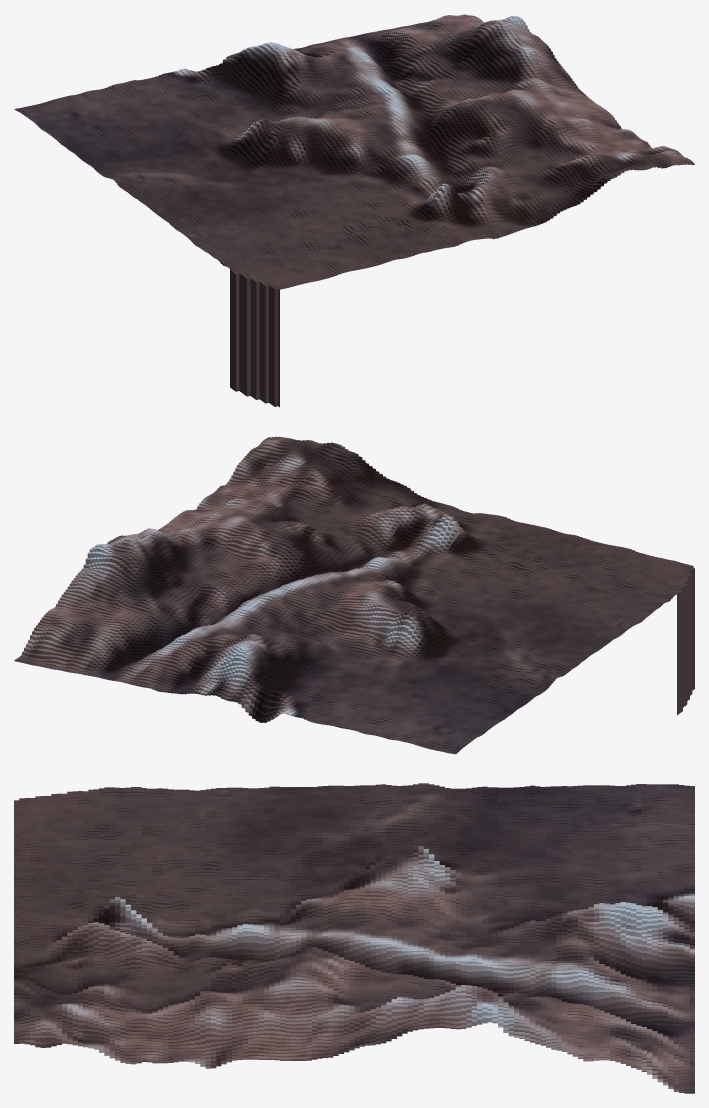
The model's file is chunk-23.glb.
3 views of the same model, one above another, from view 1: azimuth 30°, elevation 25°; view 2: azimuth 150°, elevation 25°; view 3: azimuth 270°, elevation 25° (orthographic). The views are drawn at different scales.
Visible parts, largest first — view 1: Mesh_0.039; view 2: Mesh_0.039; view 3: Mesh_0.039.
Part boxes in pixels (x1,y1,x2,y2): Mesh_0.039: [14, 14, 694, 407]; Mesh_0.039: [14, 436, 694, 754]; Mesh_0.039: [14, 783, 694, 1093].
Bounding box in the file's own units: 32000 × 12042 × 32000.
